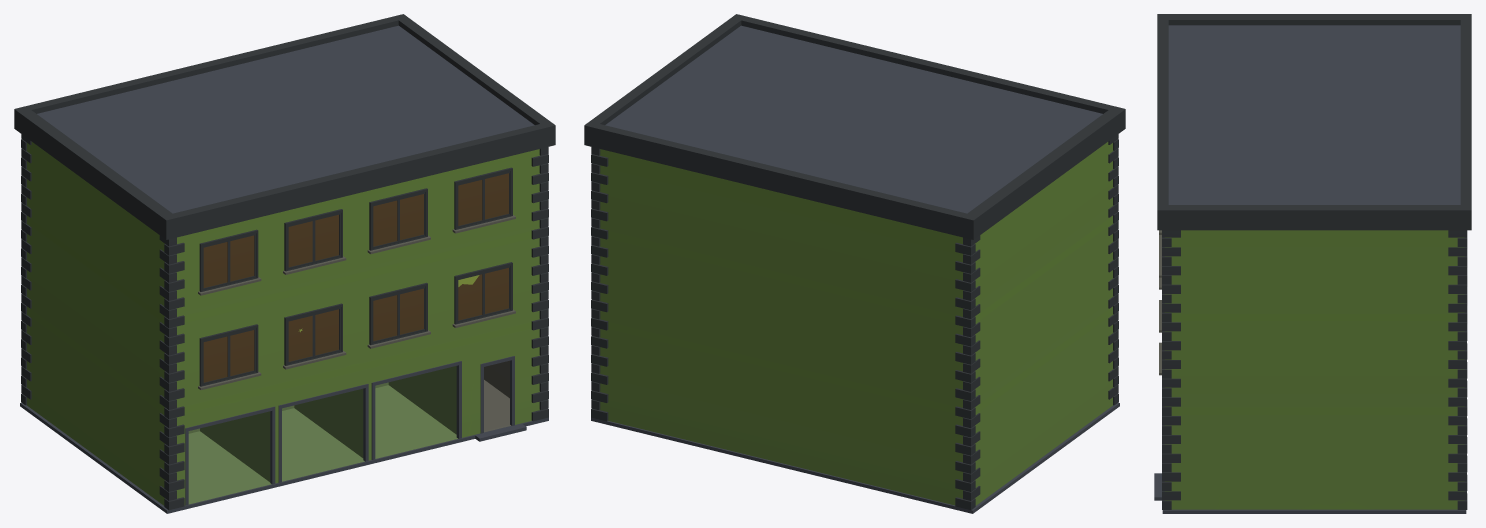
The model's file is OldHouse_09.fbx.
3 renders of one model, left to right at view 1: azimuth 30°, elevation 25°; view 2: azimuth 150°, elevation 25°; view 3: azimuth 270°, elevation 25°, orthographic. The views are drawn at different scales.
Parts seen in each view (by area): view 1: OldHouse_09; view 2: OldHouse_09; view 3: OldHouse_09.
Part boxes in pixels (box(x1,y1,x2,y2)): OldHouse_09: box(14, 14, 555, 513); OldHouse_09: box(584, 14, 1125, 513); OldHouse_09: box(1154, 14, 1471, 513).
Size of the model in its own units: 12.38 by 9 by 8.47.
